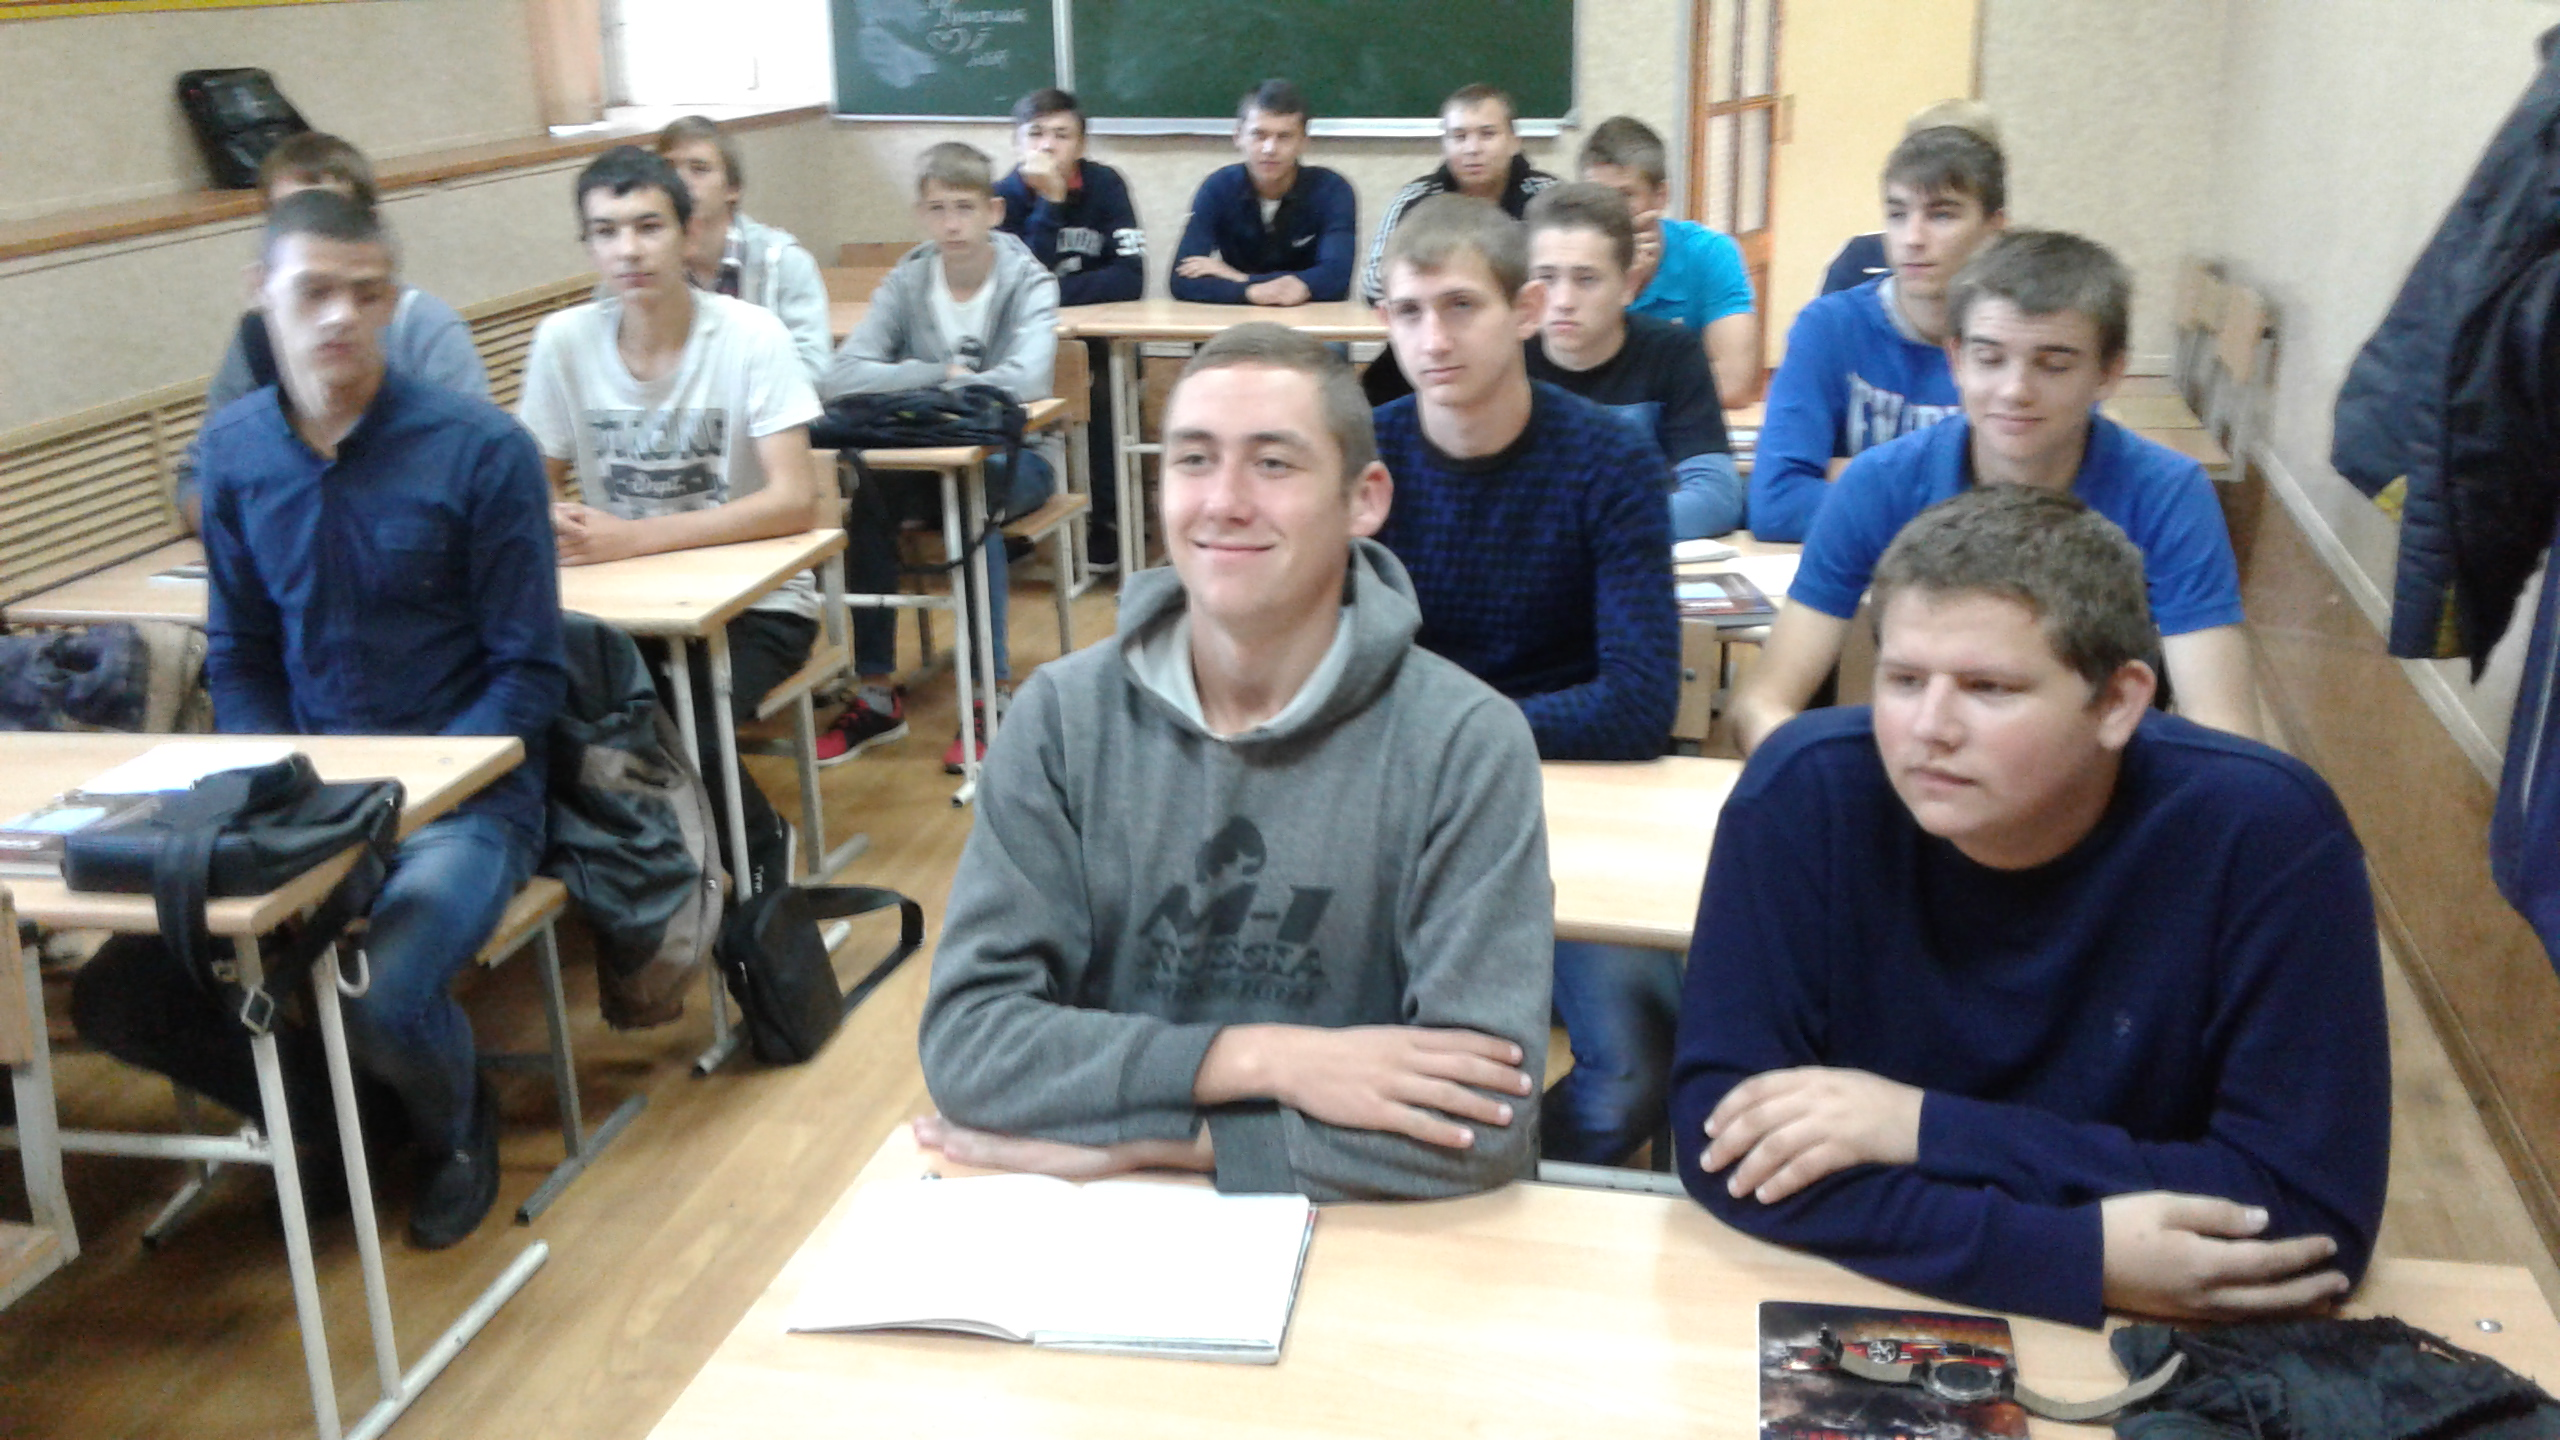students: (1677, 483, 2397, 1326), (912, 318, 1559, 1200), (189, 191, 571, 1241), (1724, 226, 2266, 775), (516, 143, 824, 903), (1361, 193, 1684, 768), (831, 140, 1059, 778), (197, 131, 496, 553), (1747, 125, 2009, 545), (1524, 186, 1737, 455), (1571, 110, 1761, 408), (654, 116, 841, 383), (1369, 80, 1572, 313), (1171, 76, 1356, 310), (1817, 100, 2012, 291), (991, 83, 1151, 306)
